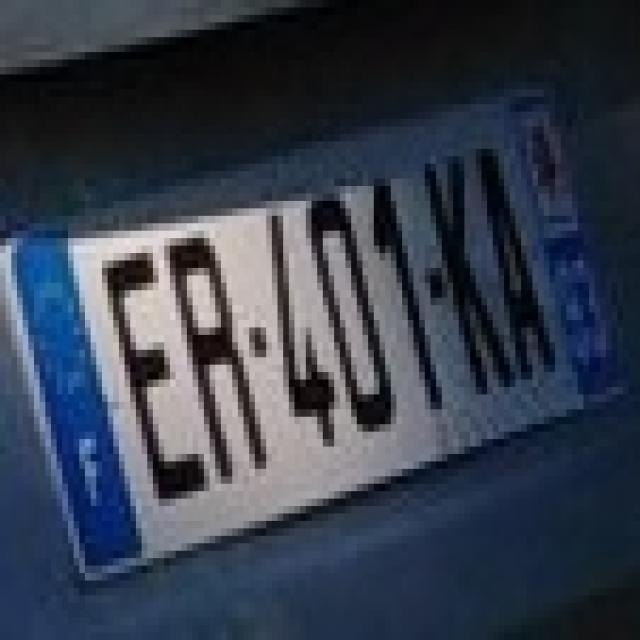EU: (0, 87, 634, 591)
France: (11, 247, 144, 570)
